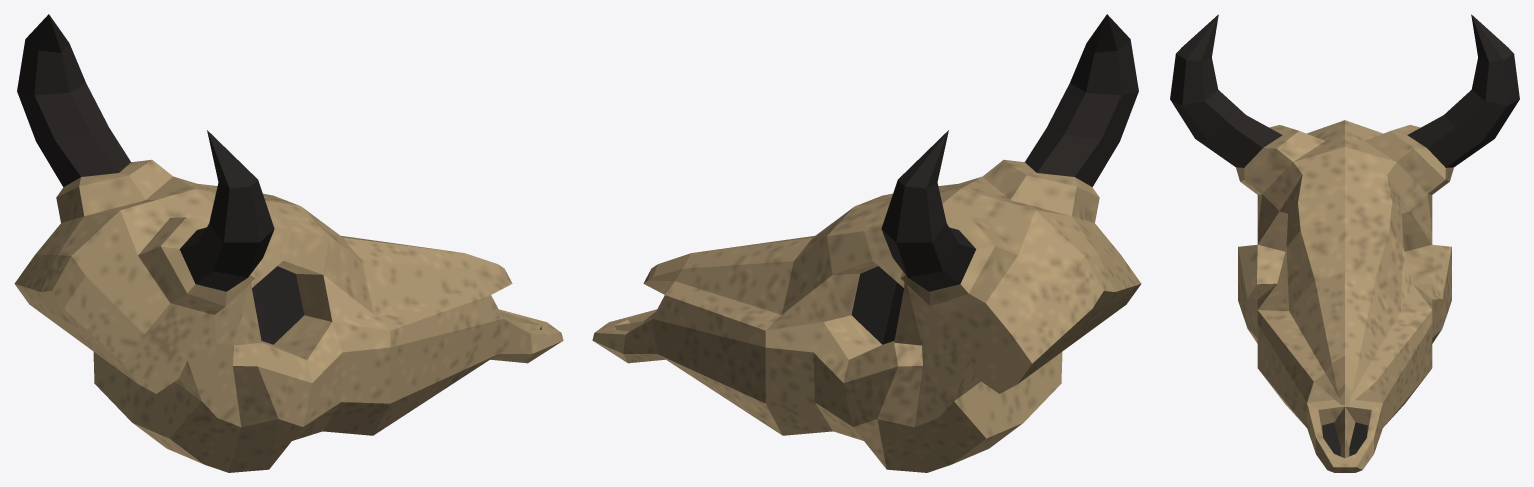
File: Scull_Cow.fbx
3 renders of one model, left to right at view 1: azimuth 30°, elevation 25°; view 2: azimuth 150°, elevation 25°; view 3: azimuth 270°, elevation 25°, orthographic. The views are drawn at different scales.
Visible parts, largest first — view 1: Cube.009; view 2: Cube.009; view 3: Cube.009.
Boxes of the visible parts, box(x1,y1,x2,y2) form: Cube.009: box(14, 14, 563, 472); Cube.009: box(592, 14, 1141, 472); Cube.009: box(1170, 14, 1519, 472).
Bounding box in the file's own units: 221 × 168 × 167.
